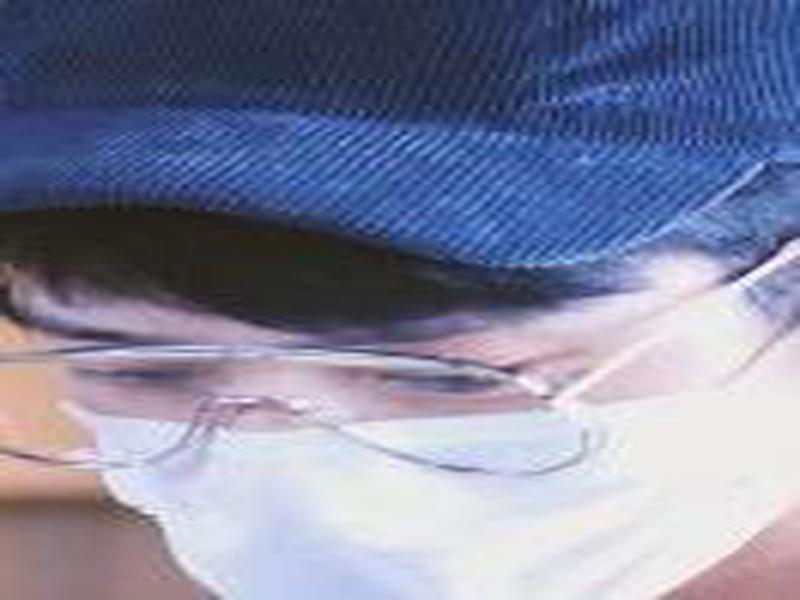with_mask: (1, 1, 800, 599)
